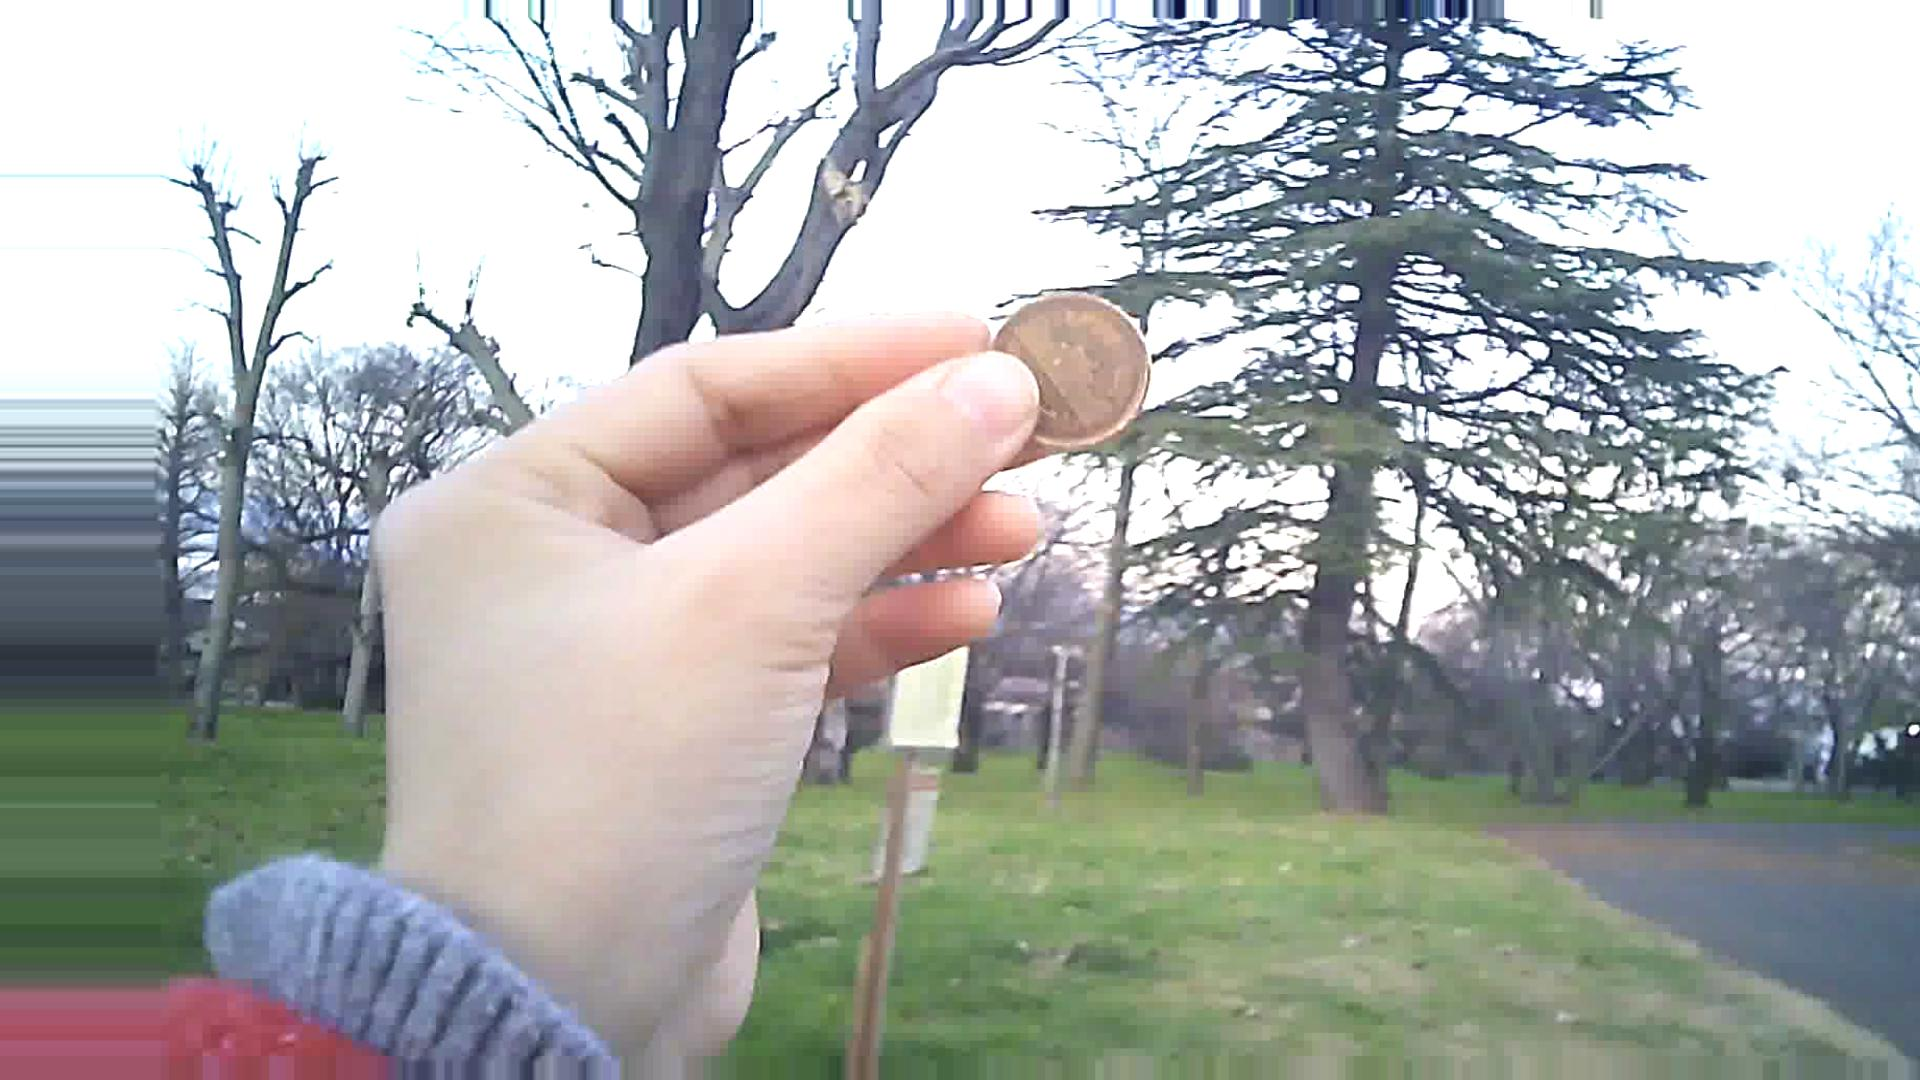10 Yen: (986, 274, 1170, 458)
